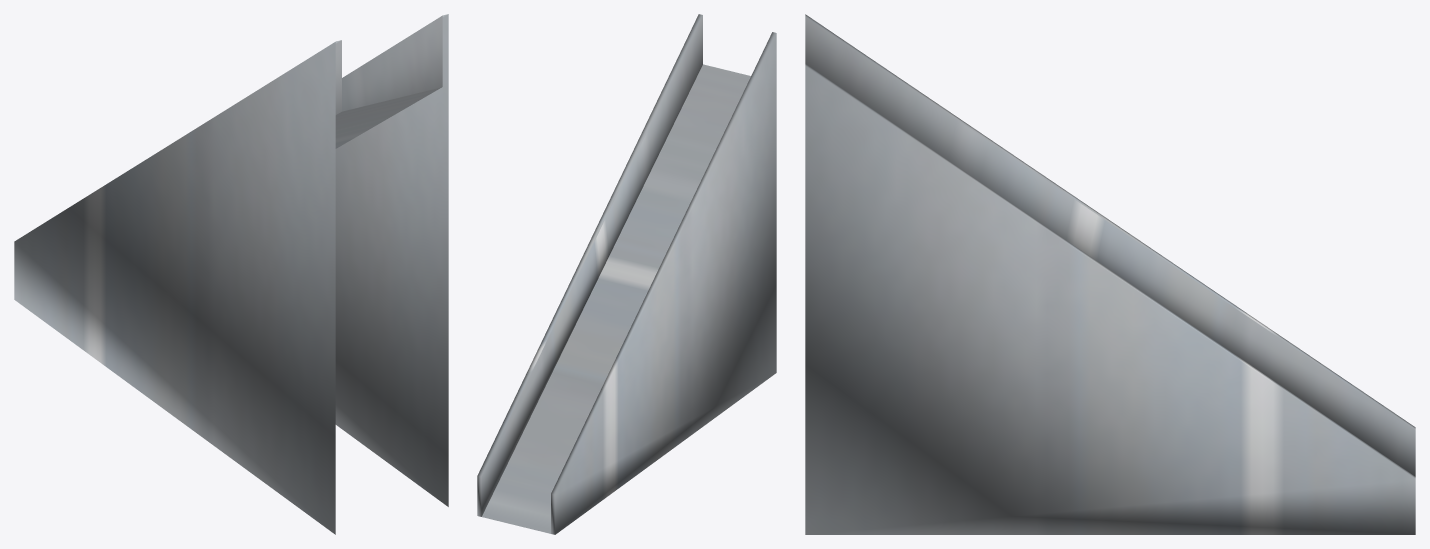
Rendered from SM_Elevator 1.fbx.
3 views of the same model, side by side, from view 1: azimuth 30°, elevation 25°; view 2: azimuth 150°, elevation 25°; view 3: azimuth 270°, elevation 25° (orthographic). The views are drawn at different scales.
Parts seen in each view (by area): view 1: elevator; view 2: elevator; view 3: elevator.
Part boxes in pixels (x1,y1,x2,y2): elevator: (14,14,448,534); elevator: (477,14,776,534); elevator: (805,14,1415,534).
Size of the model in its own units: 204 by 850 by 1004.
